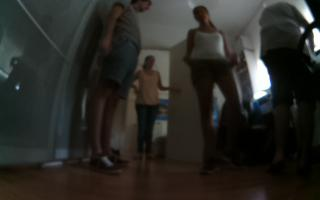person: (181, 3, 248, 177), (92, 1, 152, 178), (253, 3, 313, 178), (132, 48, 184, 166)
